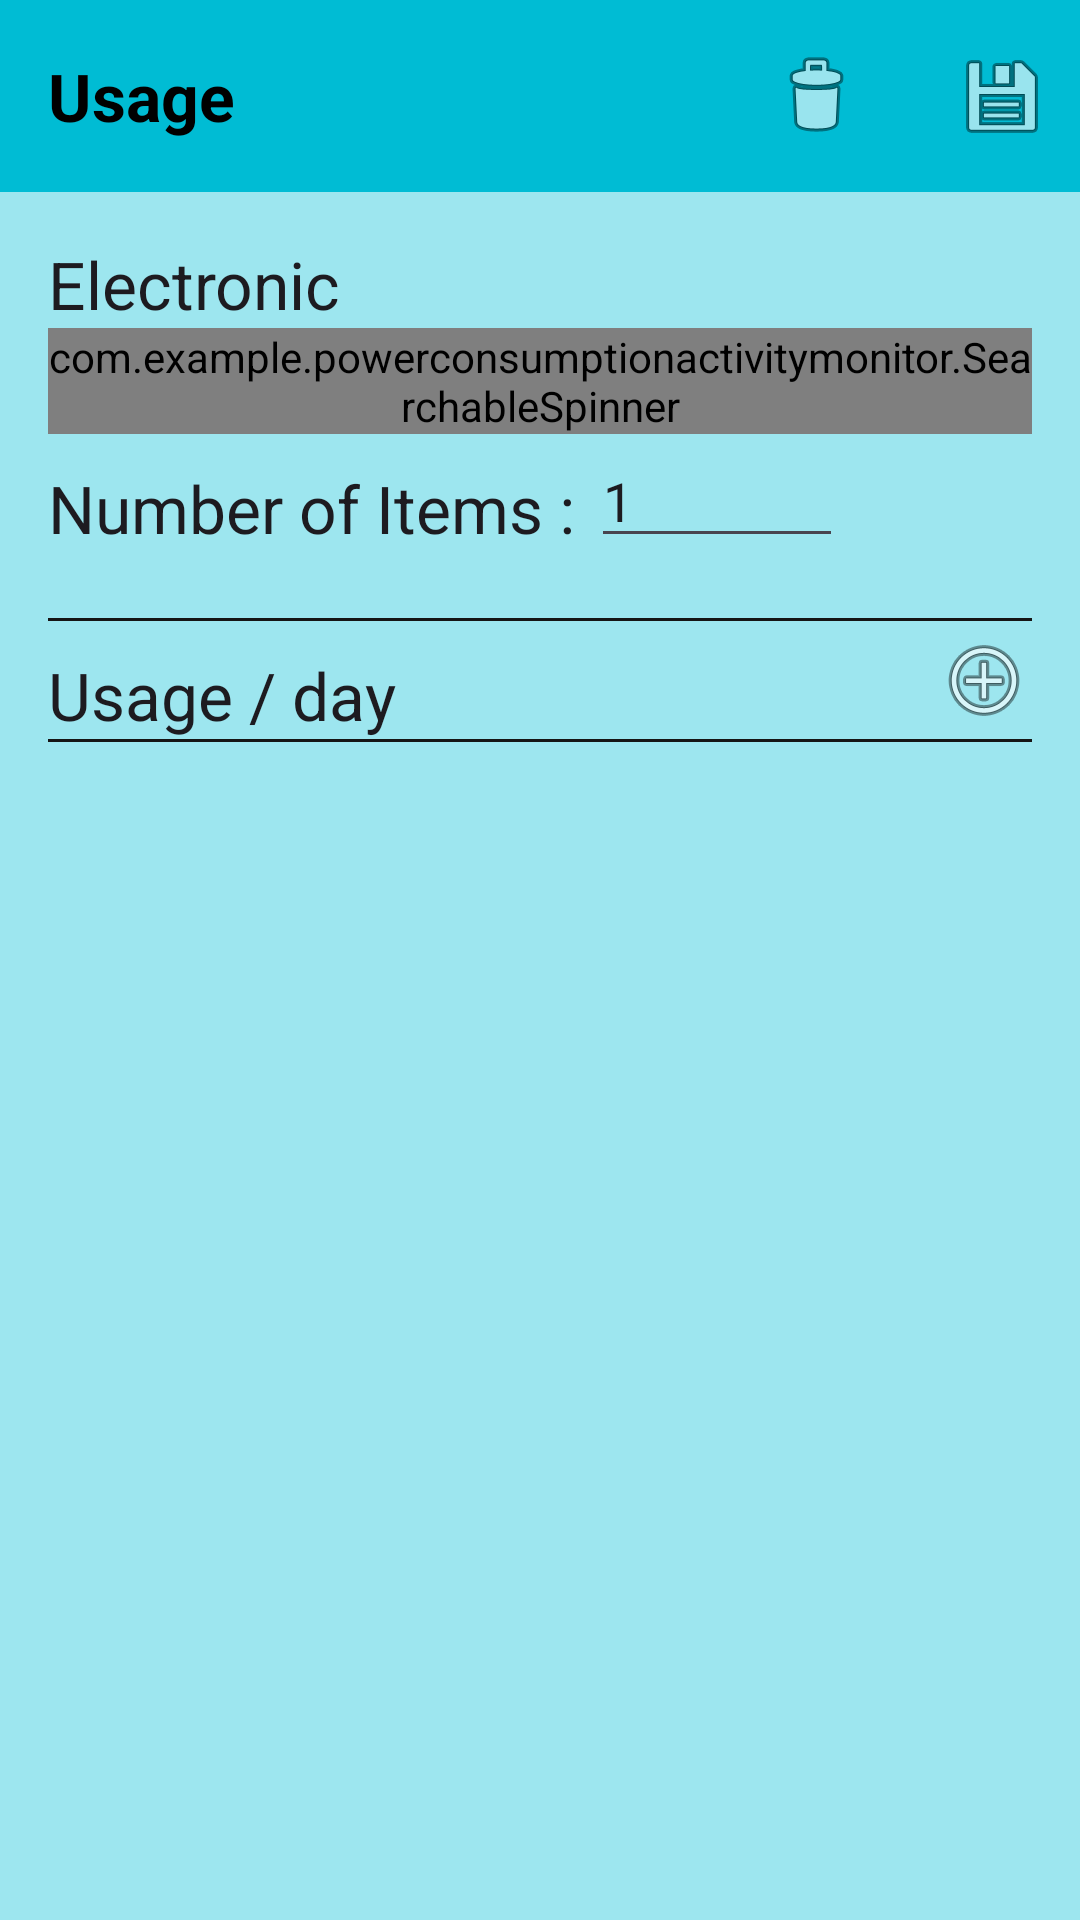

Point at icon controls on the screen. Image size 1080px x 1920px, points as (x=x, y=y).
add: (x=984, y=680)
delete: (x=816, y=94)
save: (x=1002, y=96)
